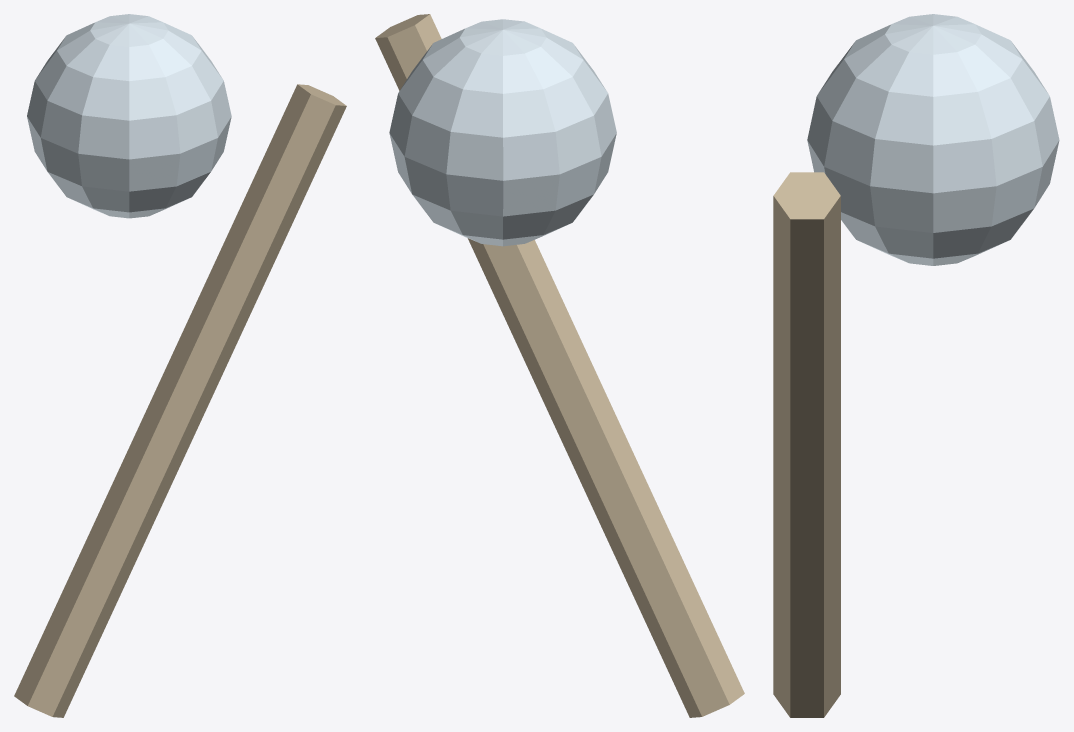
The model's file is frozen_dock_rope.glb.
The picture shows the model from 3 angles, left to right: view 1: azimuth 30°, elevation 25°; view 2: azimuth 150°, elevation 25°; view 3: azimuth 270°, elevation 25°; orthographic projection. The views are drawn at different scales.
Parts seen in each view (by area): view 1: rope, frost; view 2: frost, rope; view 3: frost, rope.
Part boxes in pixels (x1,y1,x2,y2): rope: [14, 84, 346, 717]; frost: [27, 14, 231, 218]; frost: [389, 19, 616, 246]; rope: [375, 14, 744, 717]; frost: [807, 14, 1059, 265]; rope: [773, 172, 840, 717].
Size of the model in its own units: 0.5403 by 1.01 by 0.3399.
